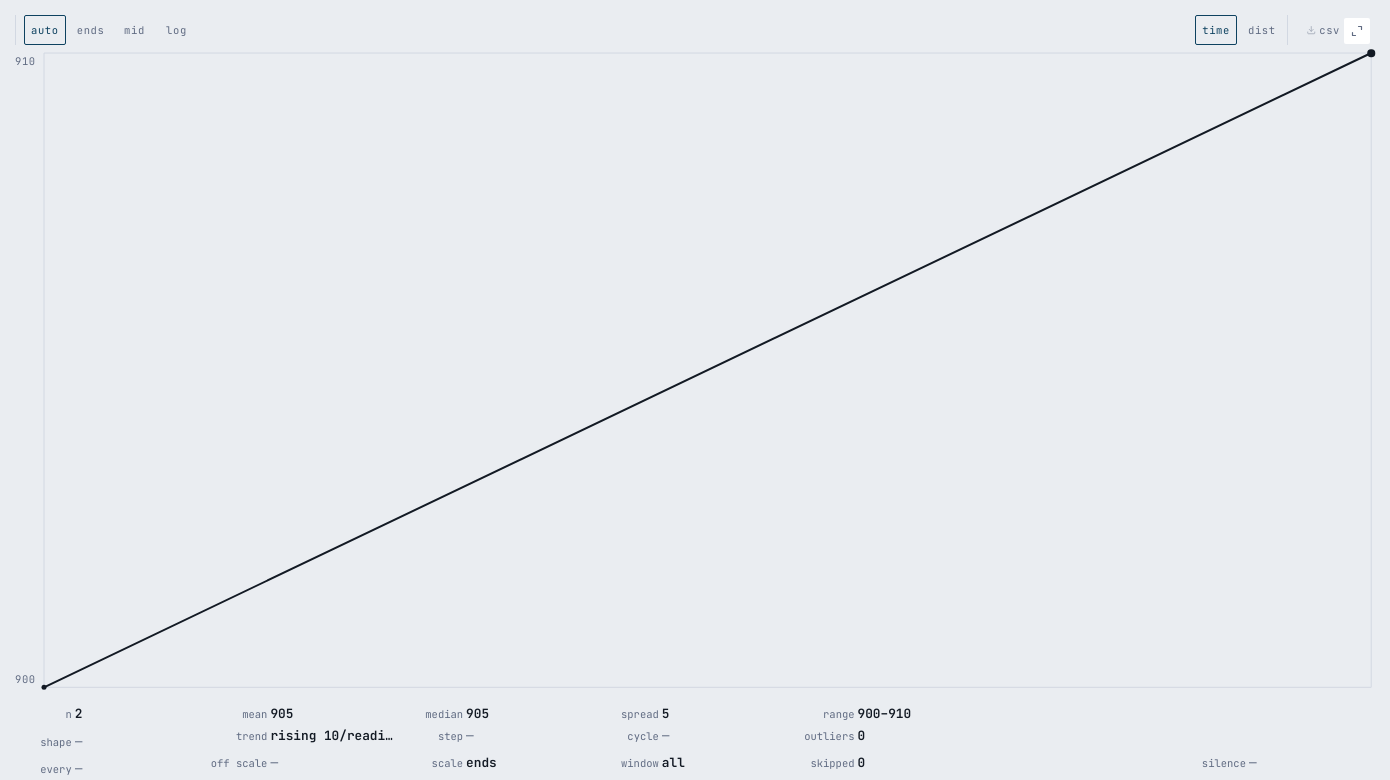
pinning a chart › leaves the window standing when the pin comes out
Click the button with test id "zoom". click: coordinates (1357, 31)
box: x1=1344 y1=18 x2=1370 y2=44
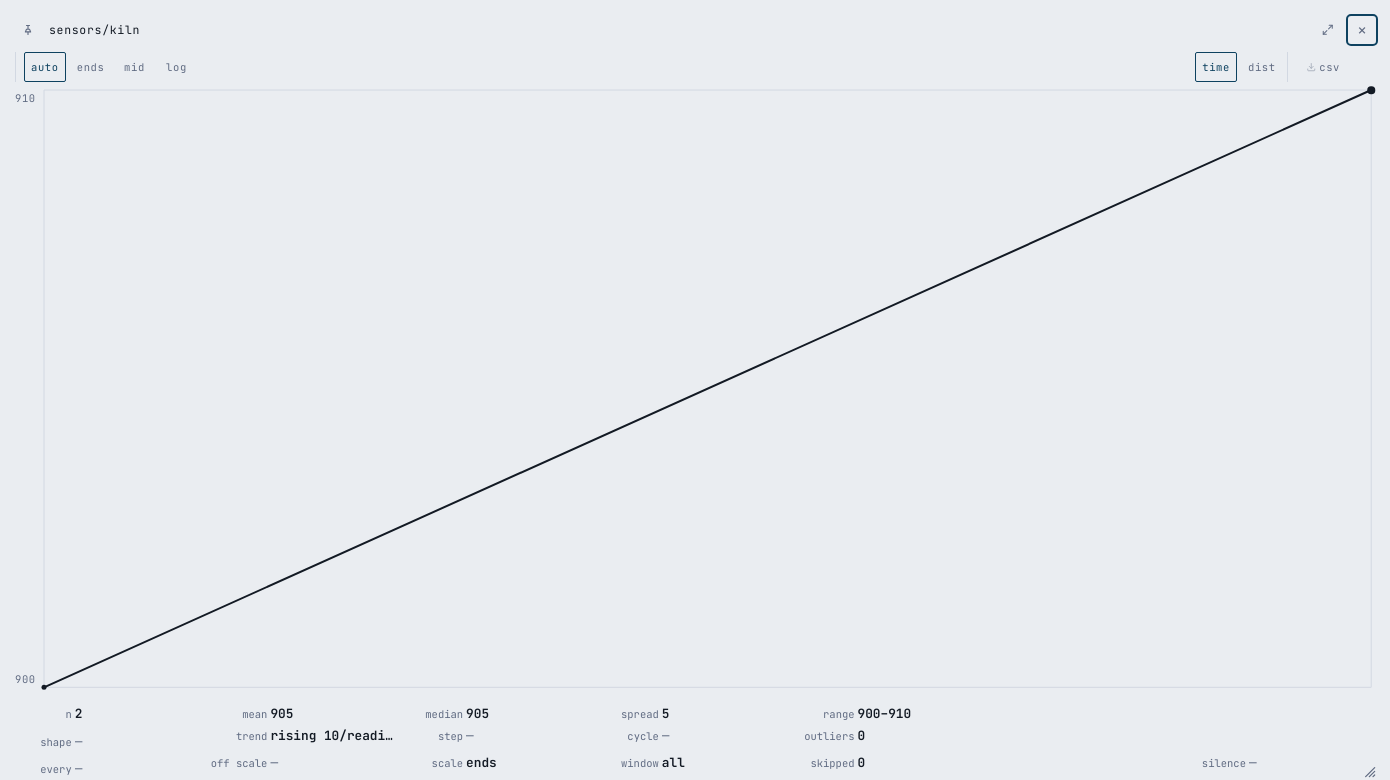
Click the button named "Pin ". click: coordinates (28, 30)
box: x1=15 y1=17 x2=41 y2=43
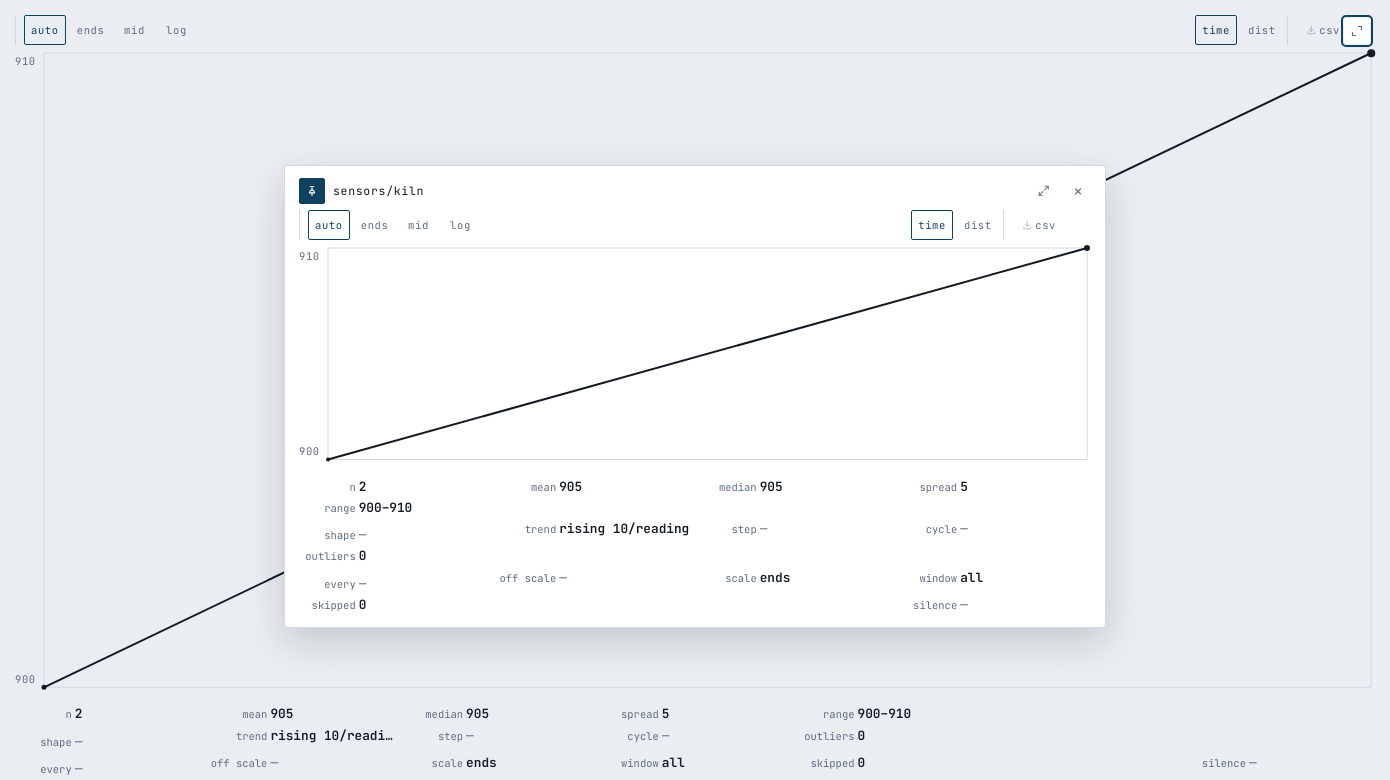
Click the button named "Let sensors/kiln move". click: coordinates (312, 191)
box: x1=299 y1=178 x2=325 y2=204
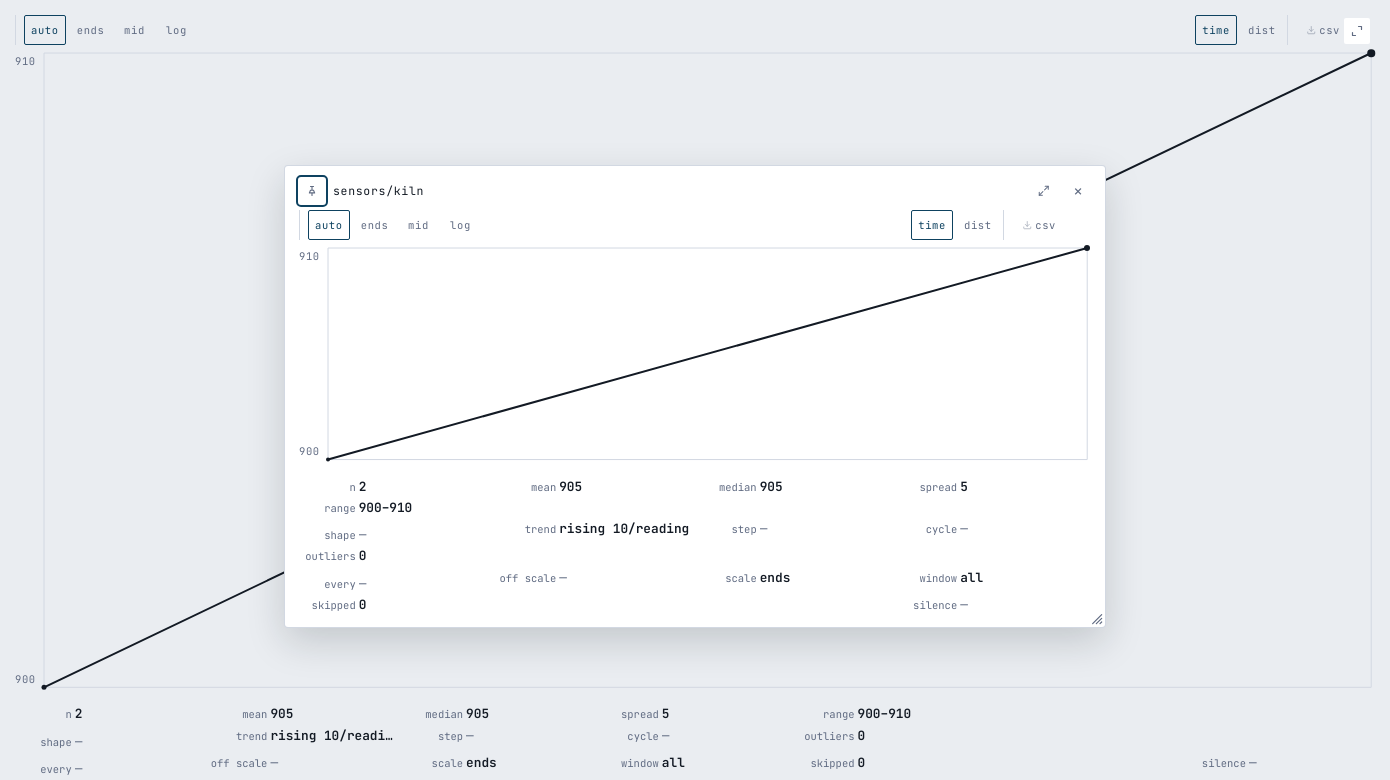
expect the element with test id "chart-window" is shown: met, box x1=285 y1=166 x2=1105 y2=627
expect the button named "Pin sensors/kiln in place" is shown: met, box x1=299 y1=178 x2=325 y2=204
